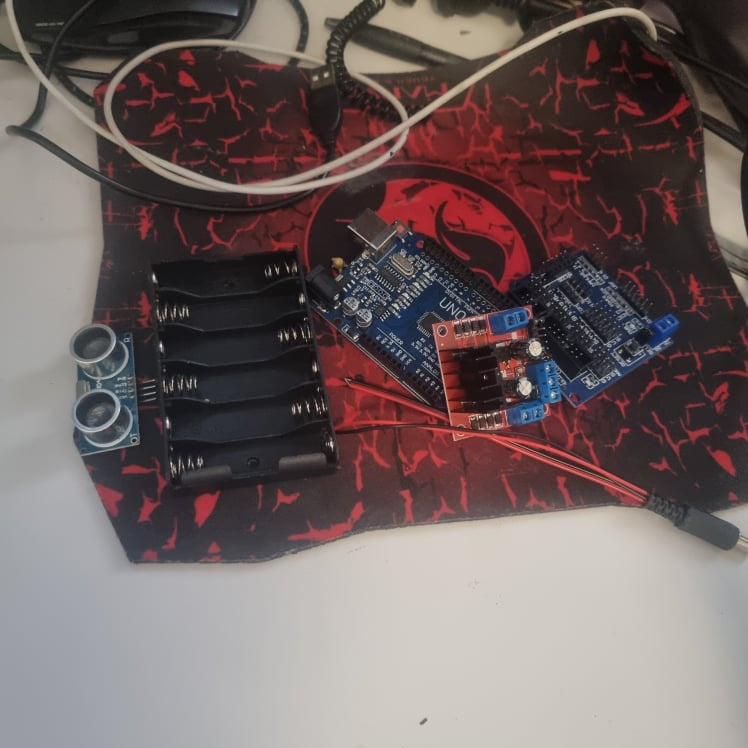5V EXPANSION: (512, 233, 678, 408)
BATTERY BOX: (143, 247, 338, 493)
MOTOR: (439, 305, 563, 441)
SENSOR: (65, 323, 139, 461)
UNO R3: (304, 205, 483, 400)
